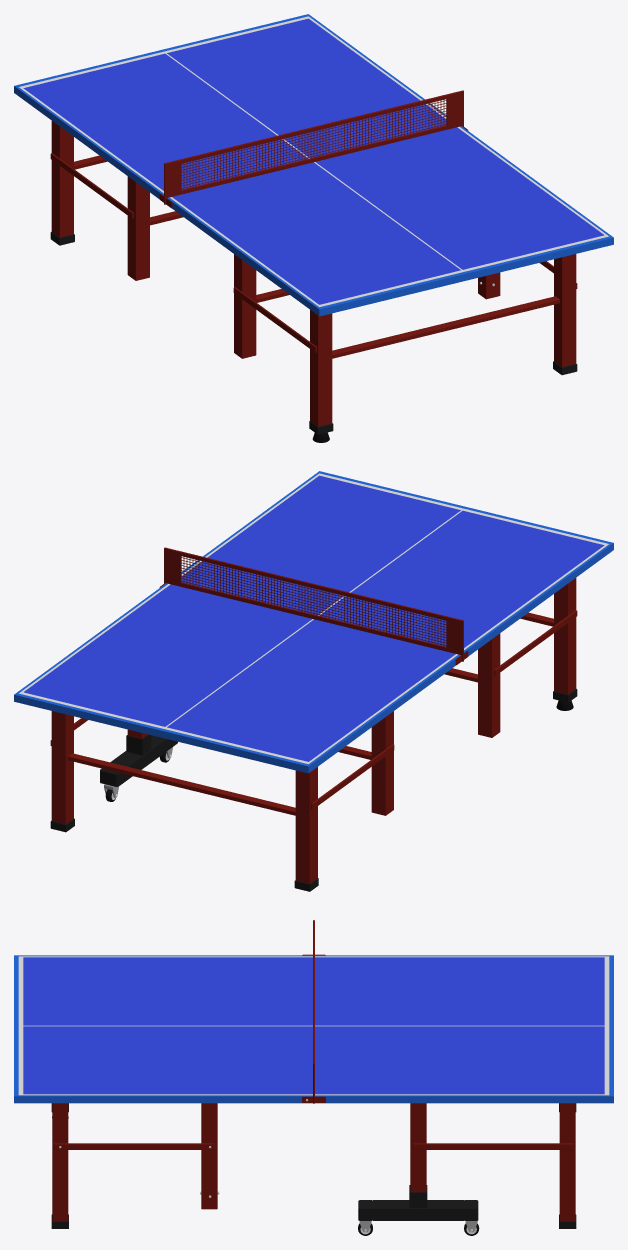
Rendered from Tennis Table.dae.
The picture shows the model from 3 angles, top to bottom: view 1: azimuth 30°, elevation 25°; view 2: azimuth 150°, elevation 25°; view 3: azimuth 270°, elevation 25°; orthographic projection.
Visible parts, largest first — view 1: desktop, table leg, ball net, frame; view 2: desktop, table leg, ball net, frame, table leg2; view 3: desktop, table leg, table leg2, frame, ball net.
Part boxes in pixels (x1,y1,x2,y2): desktop: (14,14,613,316); table leg: (50,121,577,434); ball net: (159,90,468,208); frame: (50,153,577,358); desktop: (14,471,613,773); table leg: (50,578,577,891); ball net: (159,547,468,665); frame: (50,610,577,815); table leg2: (100,734,177,786); desktop: (14,955,613,1103); table leg: (51,1103,576,1228); table leg2: (358,1185,478,1220); frame: (54,1143,573,1149); ball net: (302,920,325,1103).
Size of the model in its own units: 1.55 by 2.74 by 0.9311.
